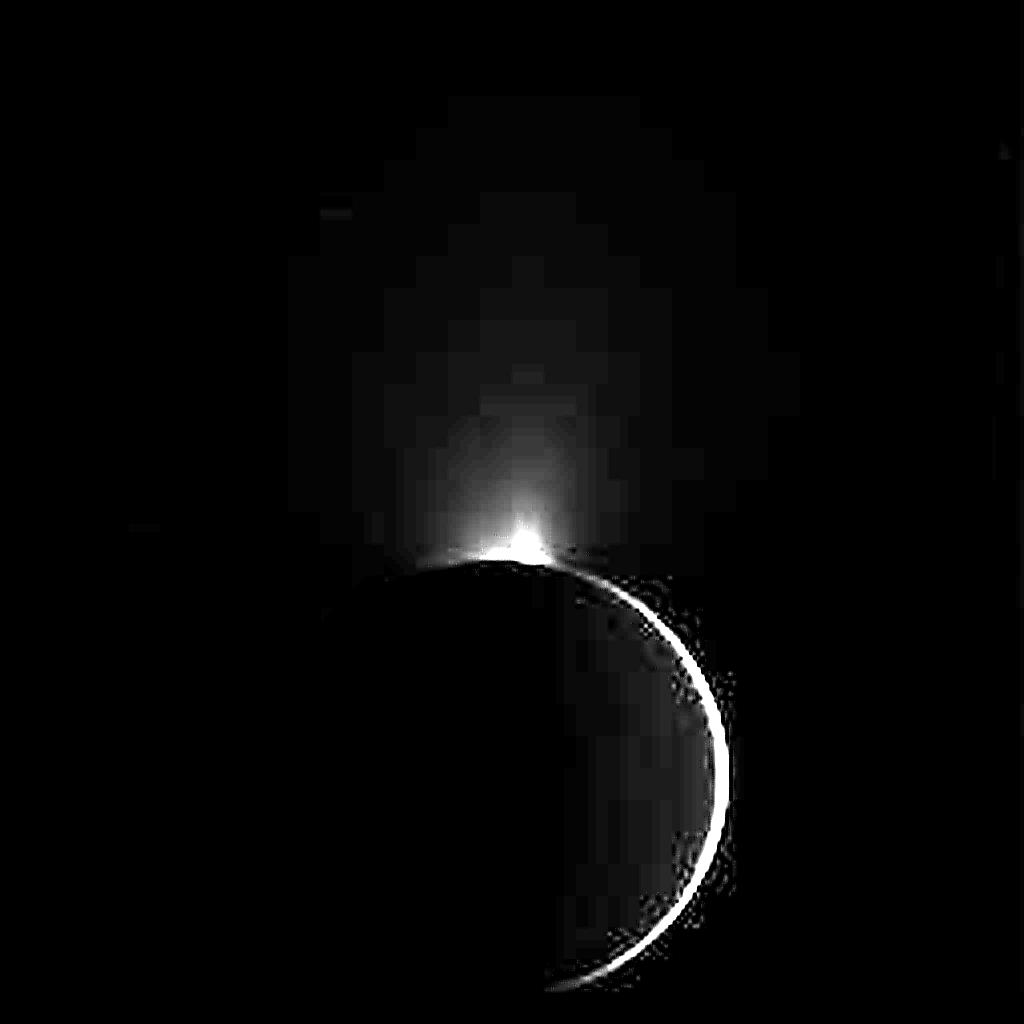plumes: (473, 526, 555, 564)
